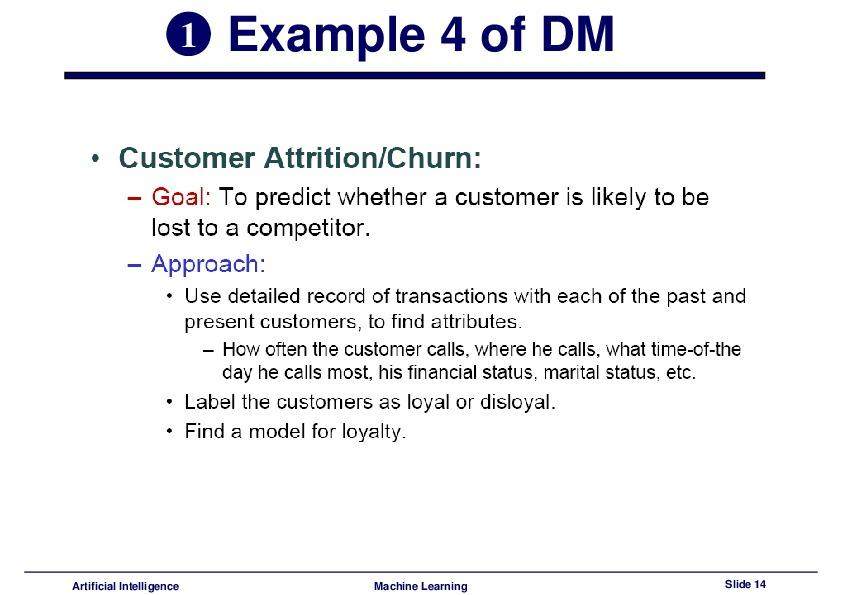paragraph: (123, 178, 798, 479)
subtitle: (120, 132, 492, 184), (52, 572, 812, 595), (146, 240, 277, 282), (148, 176, 217, 212)
title: (212, 4, 643, 64)
